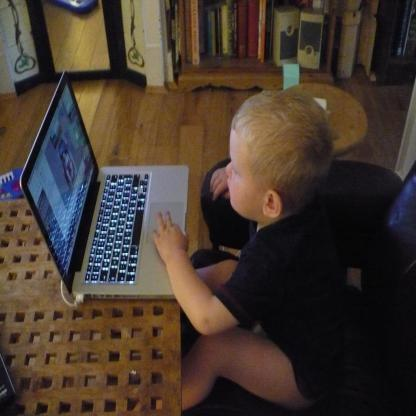board: (26, 77, 177, 323)
